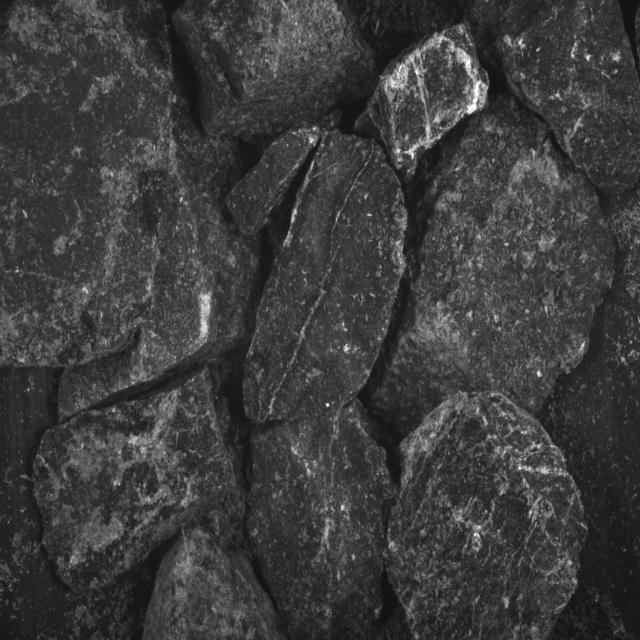Stones: (1, 3, 260, 417), (372, 98, 615, 434), (387, 393, 587, 640), (245, 131, 407, 423), (35, 371, 236, 591), (249, 401, 395, 640), (174, 1, 379, 140), (499, 1, 640, 192), (355, 25, 490, 183), (145, 529, 284, 640), (226, 126, 322, 237)
